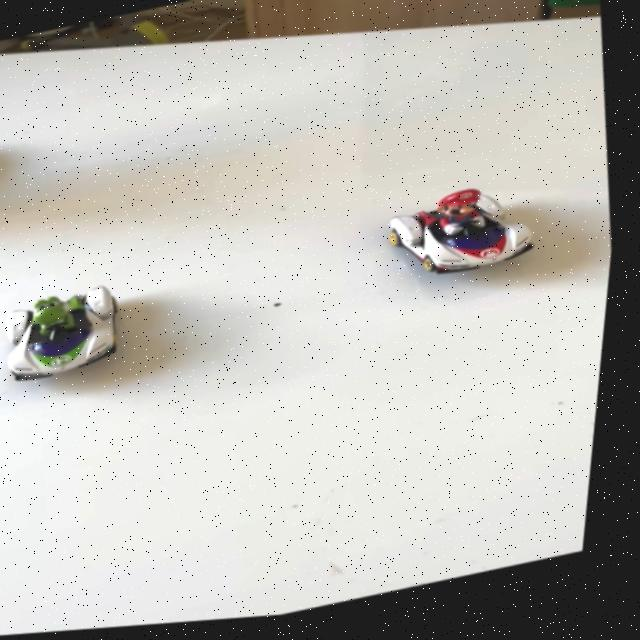mario: (366, 169, 575, 307)
yoshi: (0, 271, 159, 399)
